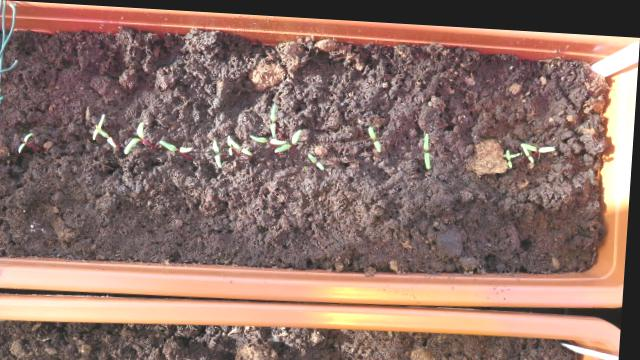crop: (120, 115, 150, 156), (417, 124, 438, 166), (205, 133, 229, 168), (301, 143, 332, 169), (363, 118, 388, 148), (155, 134, 198, 151), (15, 129, 36, 153)
